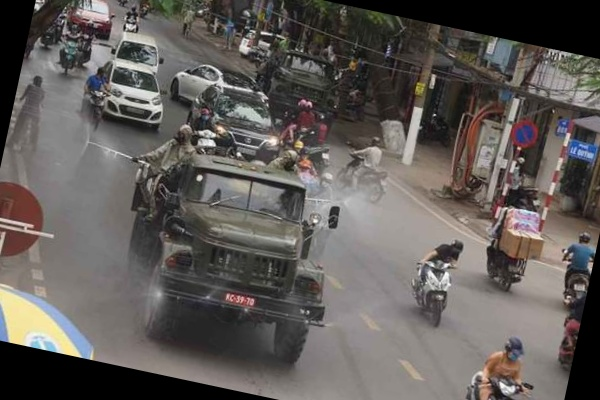plate: (225, 291, 257, 312), (233, 144, 264, 160), (123, 103, 152, 118), (506, 265, 525, 277)
